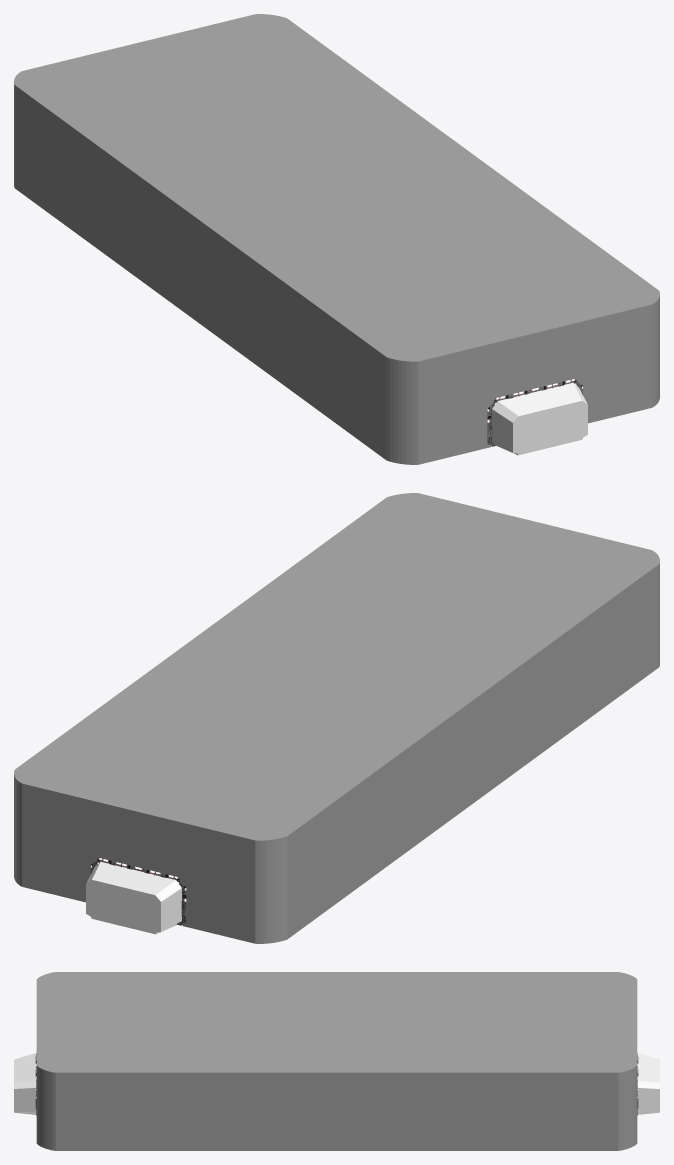
Rendered from Arena_03.fbx.
The picture shows the model from 3 angles, top to bottom: view 1: azimuth 30°, elevation 25°; view 2: azimuth 150°, elevation 25°; view 3: azimuth 270°, elevation 25°; orthographic projection. The views are drawn at different scales.
Visible parts, largest first — view 1: Top, Walls, porta1; view 2: Top, Walls, porta; view 3: Top, Walls, porta, porta1.
Part boxes in pixels (box(x1,y1,x2,y2)): Top: box(14, 14, 659, 361); Walls: box(14, 83, 659, 464); porta1: box(487, 379, 587, 455); Top: box(14, 493, 659, 840); Walls: box(14, 562, 659, 943); porta: box(86, 858, 186, 934); Top: box(36, 972, 637, 1072); Walls: box(36, 1066, 637, 1150); porta: box(637, 1050, 659, 1115); porta1: box(14, 1050, 36, 1115).
Size of the model in its own units: 7344 by 2666 by 19906.
